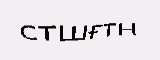Н: (116, 17, 141, 41)
Т: (37, 24, 57, 44), (104, 19, 119, 41)
Ш: (58, 23, 89, 44)
Я: (19, 21, 39, 46)
Ғ: (88, 23, 104, 43)
